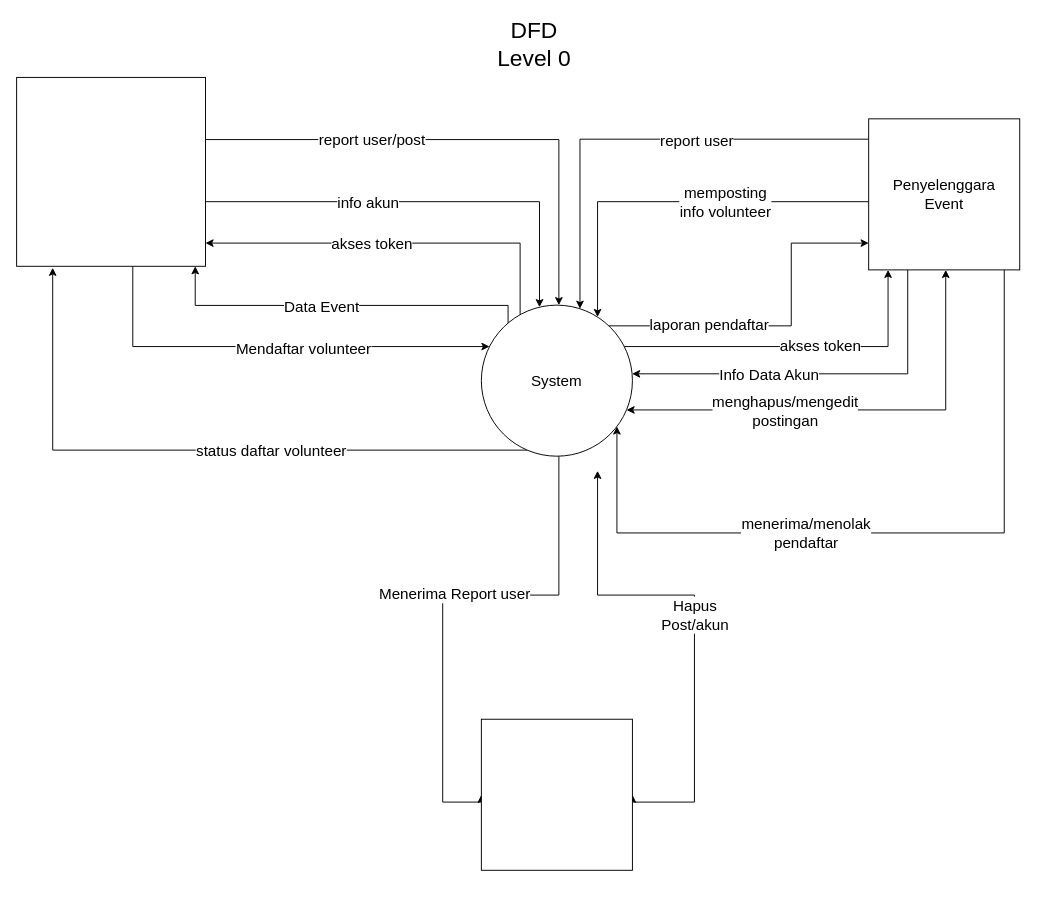
Some shapes in this 1040 by 901 pixel diagram are drawn without their labels. Each missing label, with the centre of its shape:
"Admin" goes at [556,794].
"Mahasiswa" goes at [110,171].
